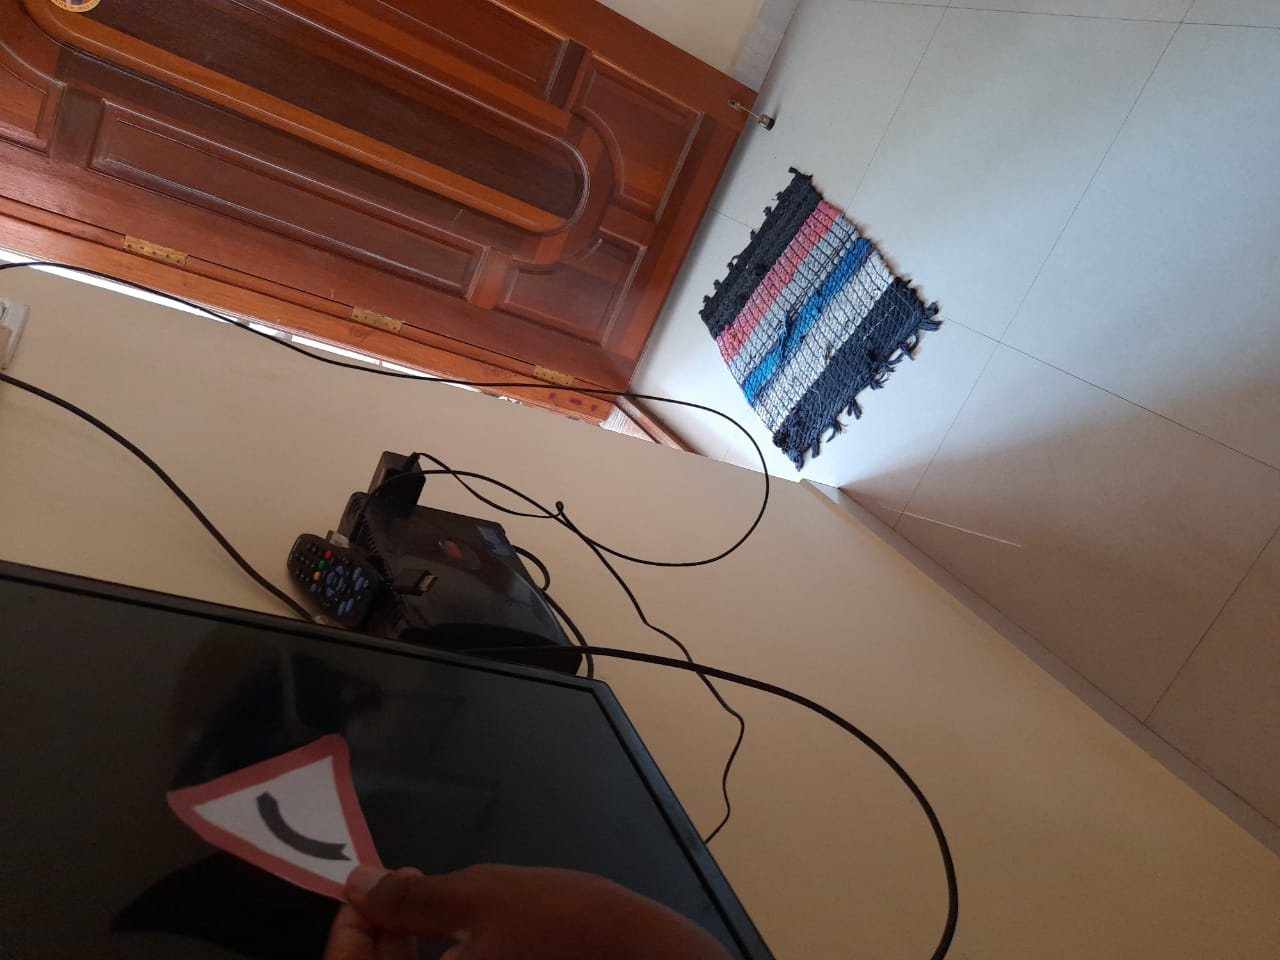RIGHT CURVE: (151, 710, 421, 910)
